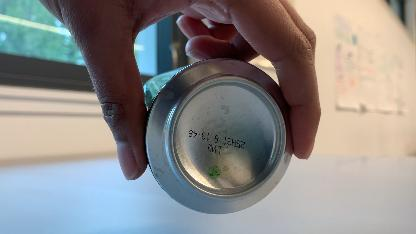Can: (138, 56, 300, 216)
